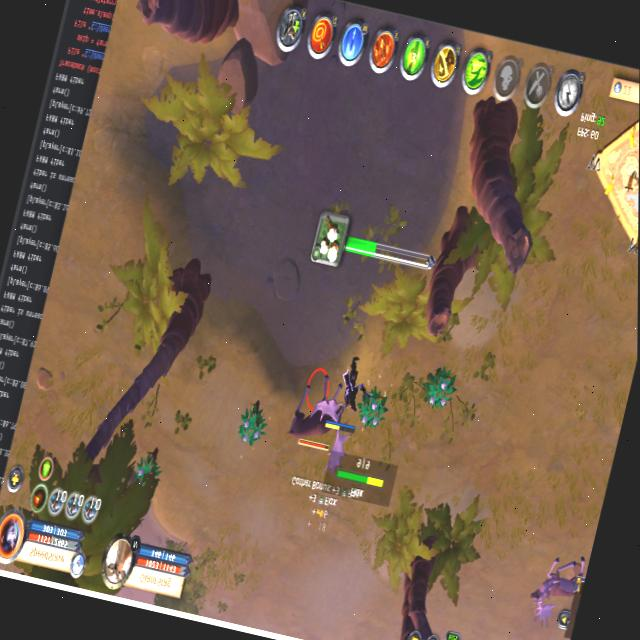hide: (418, 360, 459, 418), (233, 396, 271, 454), (353, 380, 391, 436), (129, 444, 163, 492)
mob: (521, 546, 590, 638)
ore: (283, 362, 346, 458)
red: (323, 354, 372, 439)
